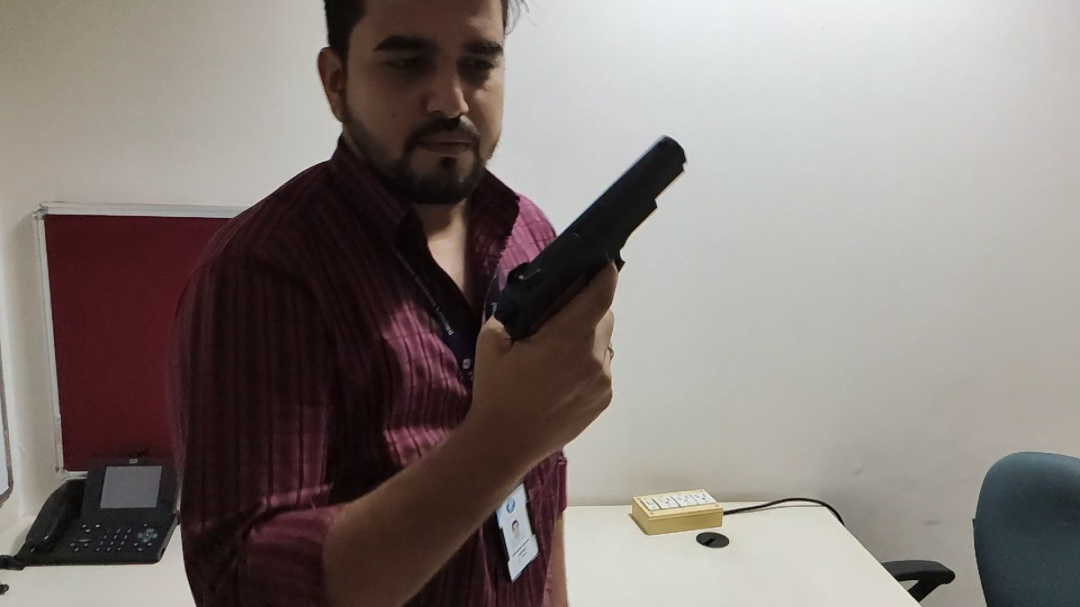gun: (491, 126, 697, 422)
